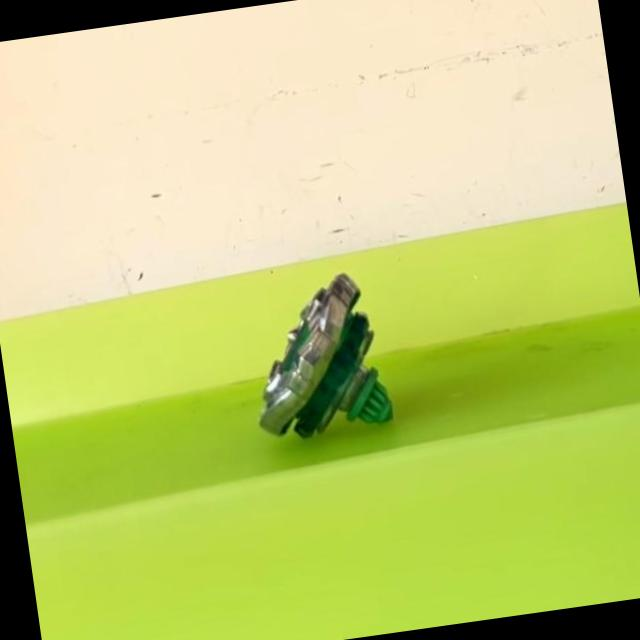Beyblade: (240, 269, 394, 444)
